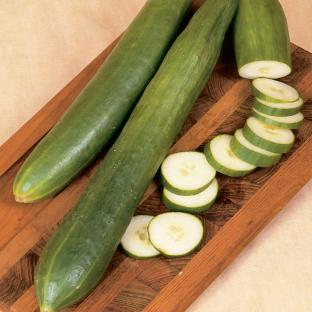Cucumber: (35, 0, 236, 311), (13, 0, 192, 202), (232, 0, 292, 79), (148, 212, 204, 257), (160, 151, 216, 195), (204, 135, 256, 176), (230, 128, 282, 167), (162, 178, 218, 214), (243, 116, 295, 153), (121, 215, 159, 259), (252, 78, 299, 103), (251, 107, 304, 129), (253, 97, 303, 116)
